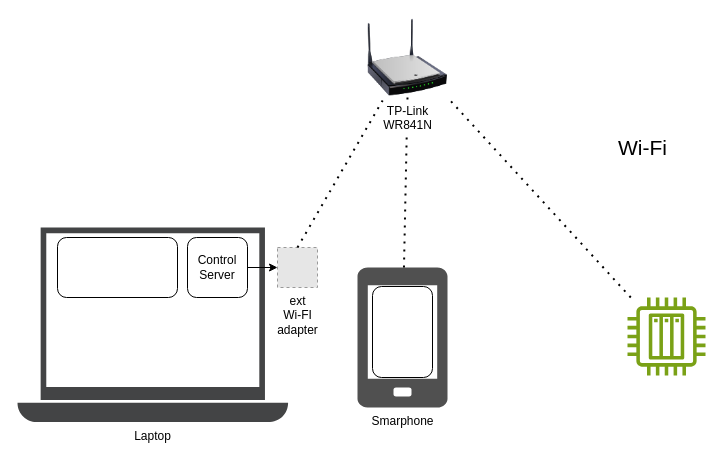
This 722x460 diagram has some shape labels left out. Grey dashed boxes stand in for pictures. The centre of each missing label's shape, as x and y in pixels:
NodeMCU ESP32S: the point at 666,336
UI in native / web app: the point at 402,332
UI in webapp: the point at 117,267
